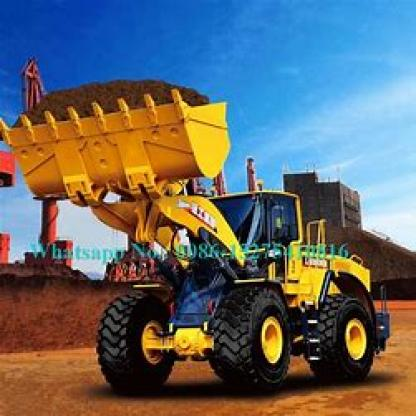bull_dozer/loader/grader: (3, 64, 408, 388)
